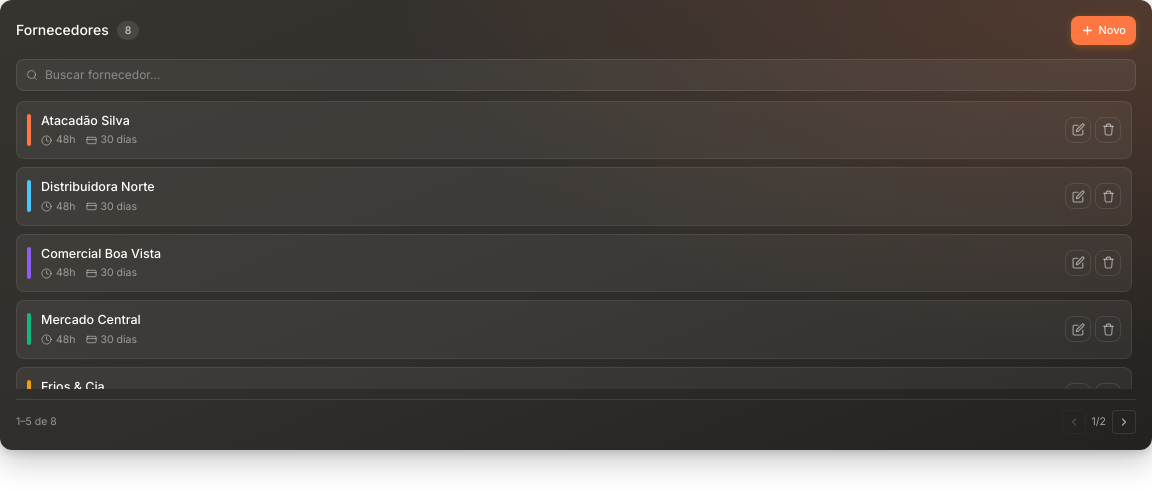
Test: FornecedoresPainel — busca › filtra pelo nome instantaneamente (client-side) e reinicia a paginação
expect the text "Atacadão Silva" is shown: met, box [41, 112, 130, 130]
Type "Sul" into the field with placeholder "Buscar fornecedor..." at (576, 74), box [16, 58, 1136, 90]
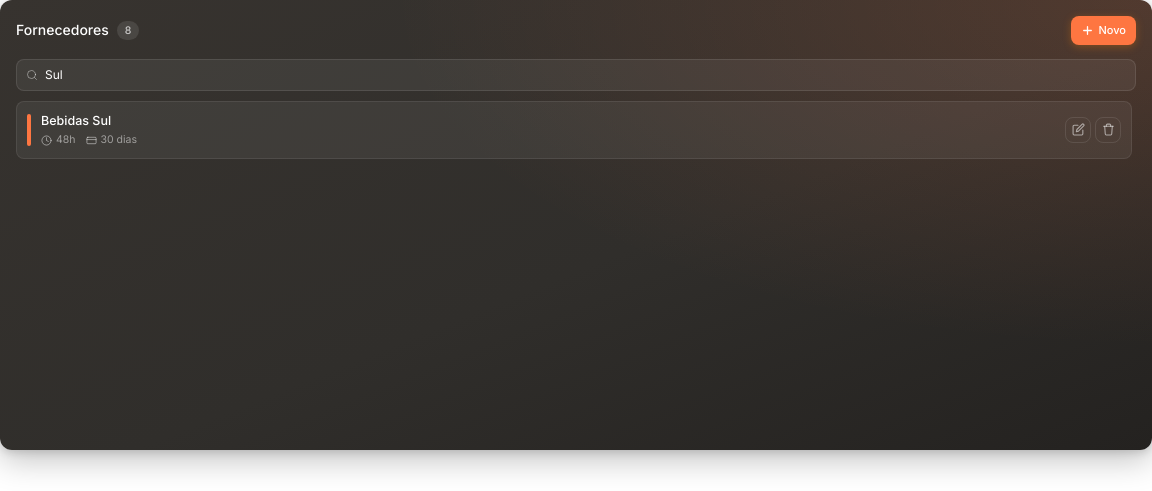
expect the text "Bebidas Sul" is shown: met, box [41, 112, 111, 130]
expect the text "Atacadão Silva" is gone: met
